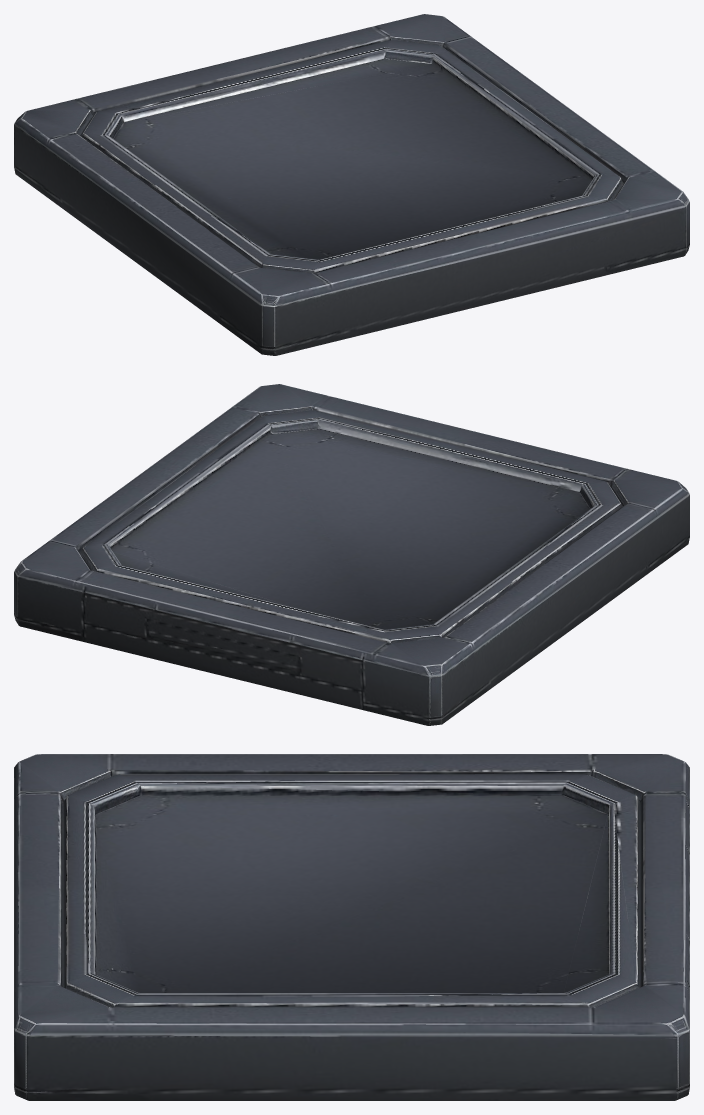
The model's file is floor3d-1.glb.
3 renders of one model, top to bottom at view 1: azimuth 30°, elevation 25°; view 2: azimuth 150°, elevation 25°; view 3: azimuth 270°, elevation 25°, orthographic. The views are drawn at different scales.
Visible parts, largest first — view 1: tripo_node_20f61a18-534d-41bf-b029-bf7a72a12702; view 2: tripo_node_20f61a18-534d-41bf-b029-bf7a72a12702; view 3: tripo_node_20f61a18-534d-41bf-b029-bf7a72a12702.
Boxes of the visible parts, <box> form: tripo_node_20f61a18-534d-41bf-b029-bf7a72a12702: <box>14,14,689,355</box>; tripo_node_20f61a18-534d-41bf-b029-bf7a72a12702: <box>14,384,689,725</box>; tripo_node_20f61a18-534d-41bf-b029-bf7a72a12702: <box>14,754,689,1100</box>.
Bounding box in the file's own units: 0.959 × 0.123 × 0.998.
1 material, 1 textured.
